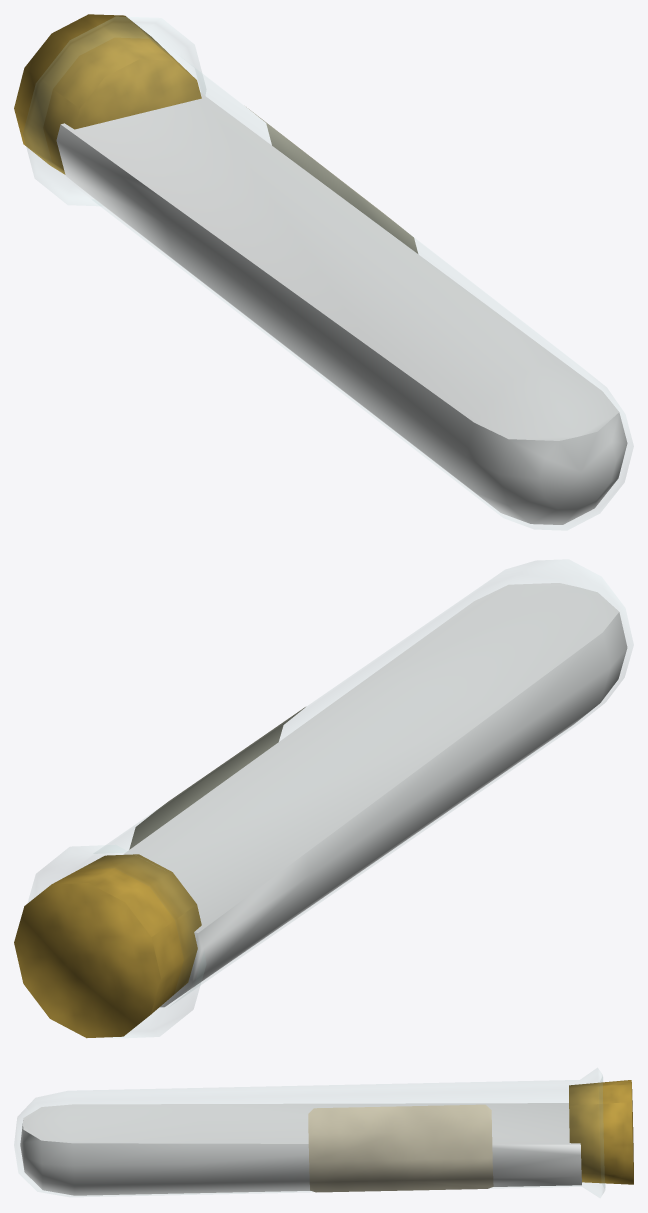
File: horizontal_tube.glb
3 views of the same model, one above another, from view 1: azimuth 30°, elevation 25°; view 2: azimuth 150°, elevation 25°; view 3: azimuth 270°, elevation 25° (orthographic). The views are drawn at different scales.
Visible parts, largest first — view 1: liquid-horizontal_tube, cork-horizontal_tube, horizontal_tube, tag-horizontal_tube; view 2: liquid-horizontal_tube, cork-horizontal_tube, horizontal_tube, tag-horizontal_tube; view 3: liquid-horizontal_tube, tag-horizontal_tube, horizontal_tube, cork-horizontal_tube.
Boxes of the visible parts, <box> form: liquid-horizontal_tube: <box>56,92,627,524</box>; cork-horizontal_tube: <box>14,14,201,174</box>; horizontal_tube: <box>23,17,633,529</box>; tag-horizontal_tube: <box>246,107,418,253</box>; liquid-horizontal_tube: <box>123,583,627,1007</box>; cork-horizontal_tube: <box>14,854,201,1038</box>; horizontal_tube: <box>28,560,633,1037</box>; tag-horizontal_tube: <box>129,707,305,849</box>; liquid-horizontal_tube: <box>20,1103,581,1195</box>; tag-horizontal_tube: <box>308,1104,493,1192</box>; horizontal_tube: <box>14,1068,605,1197</box>; cork-horizontal_tube: <box>569,1080,633,1184</box>.
Size of the model in its own units: 0.0343 by 0.0343 by 0.1615.
3 materials, 2 textured.
